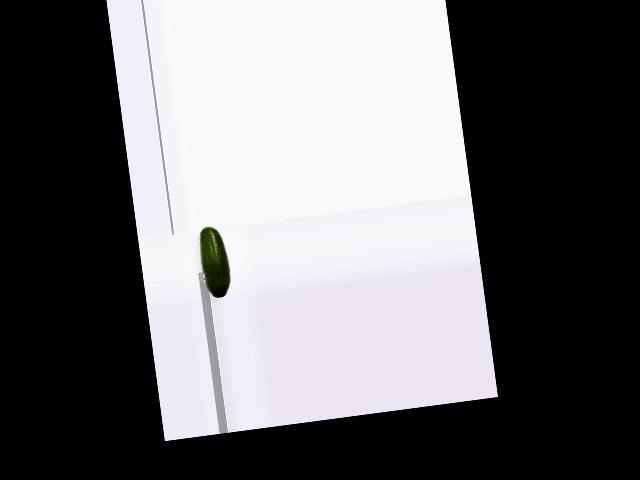cucumber: (196, 224, 233, 300)
